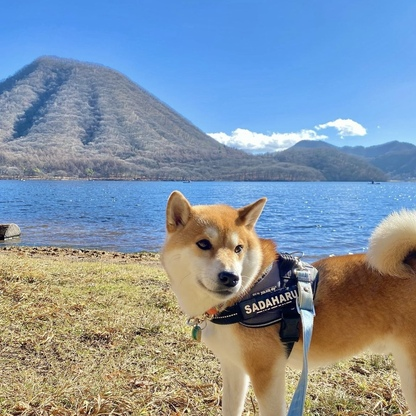shiba: (157, 186, 416, 416)
